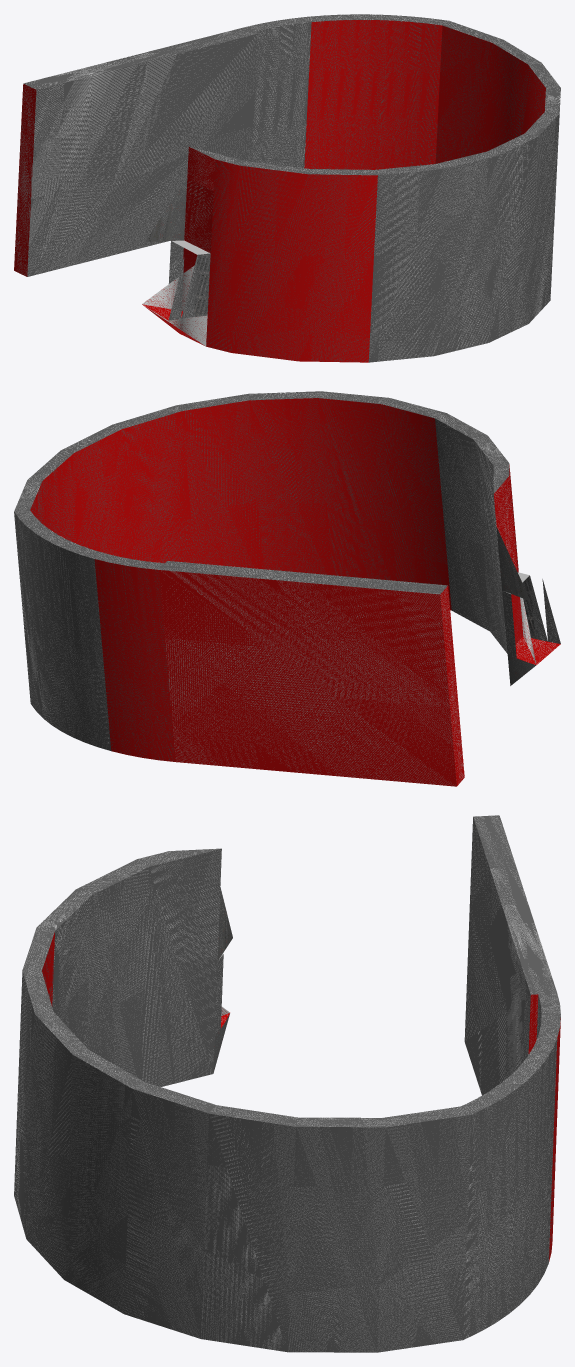
The picture shows the model from 3 angles, top to bottom: view 1: azimuth 30°, elevation 25°; view 2: azimuth 150°, elevation 25°; view 3: azimuth 270°, elevation 25°; orthographic projection. The views are drawn at different scales.
Size of the model in its own units: 0.2639 by 0.1202 by 0.2156.
